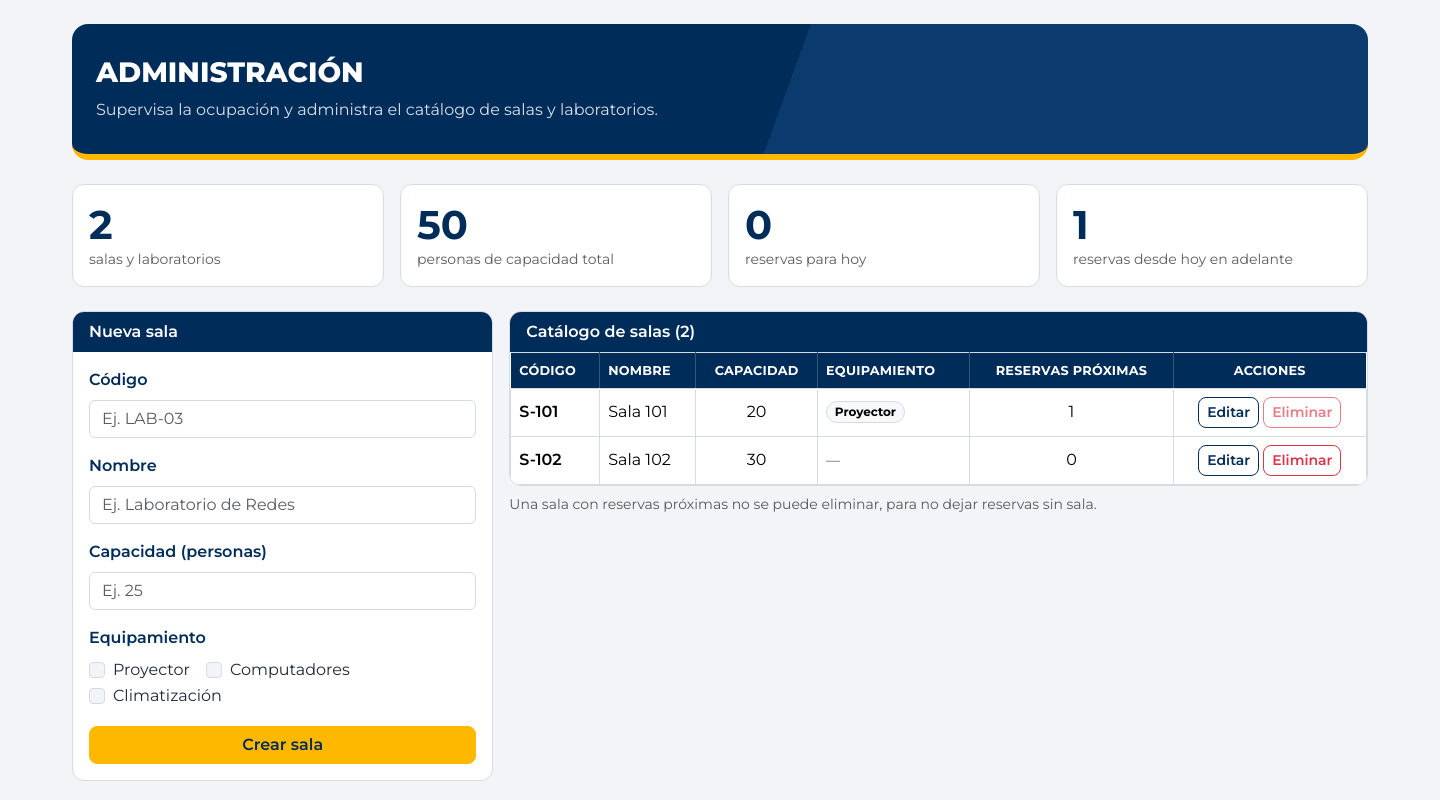
it: Página Administración › crea una sala nueva y la muestra en la tabla
The width and height of the screenshot is (1440, 800).
Type "LAB-03" into the field labelled "Código" at [283, 419], box [89,400,476,438]
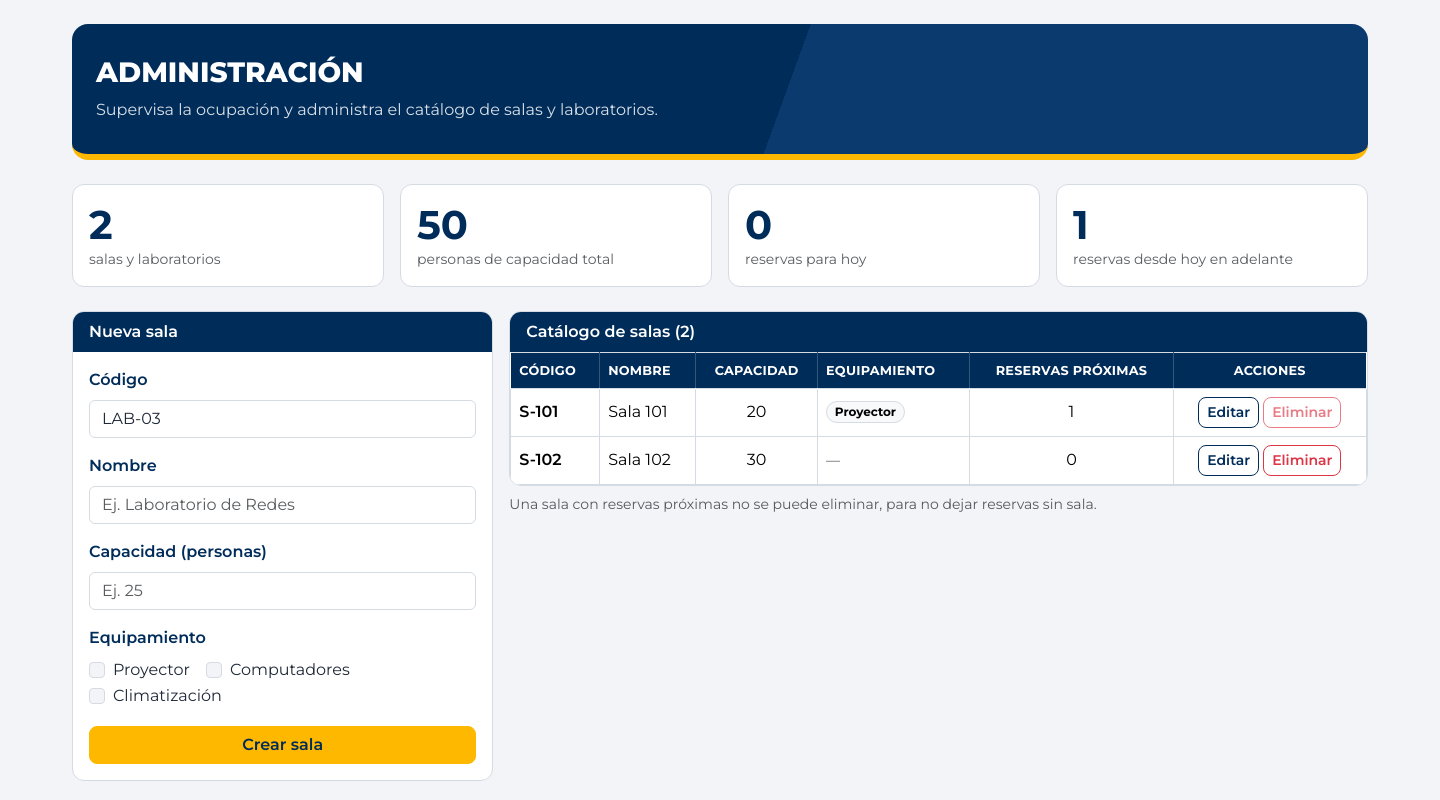
Type "Laboratorio de Redes" into the field labelled "Nombre" at [283, 505], box [89,486,476,524]
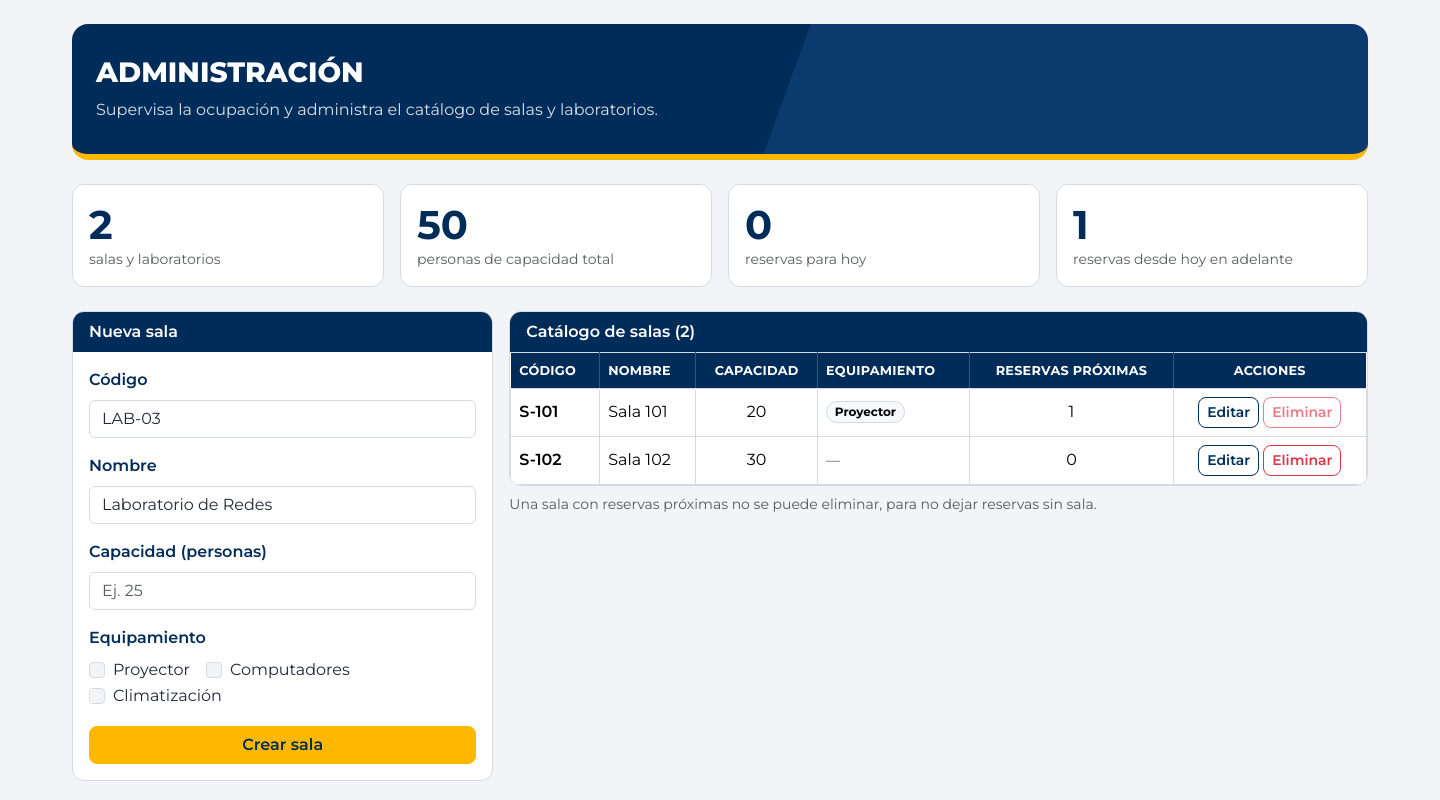
Type "22" into the number field labelled "Capacidad (personas)" at [283, 591], box [89,572,476,610]
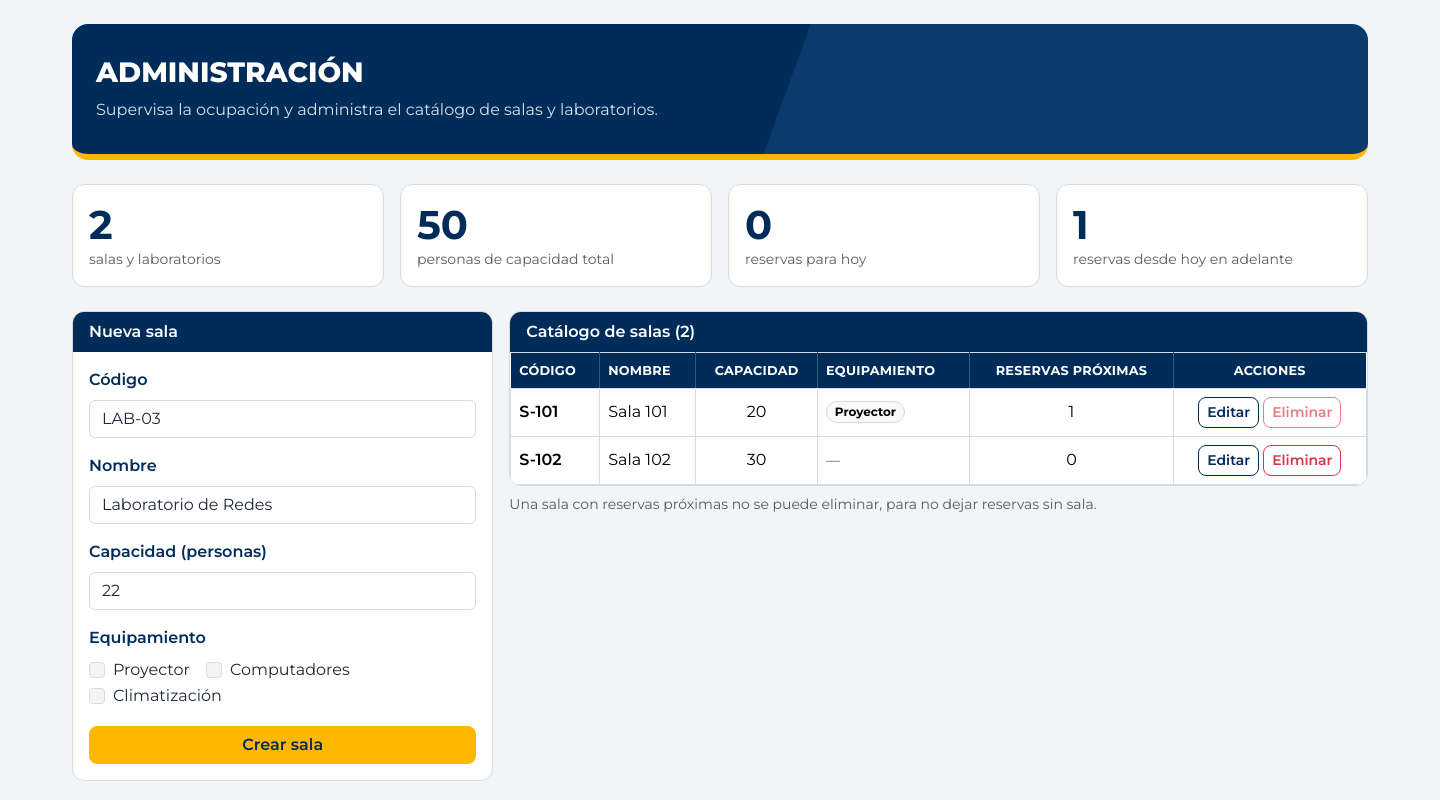
Click the button "Crear sala" at [283, 745], box [89,726,476,764]
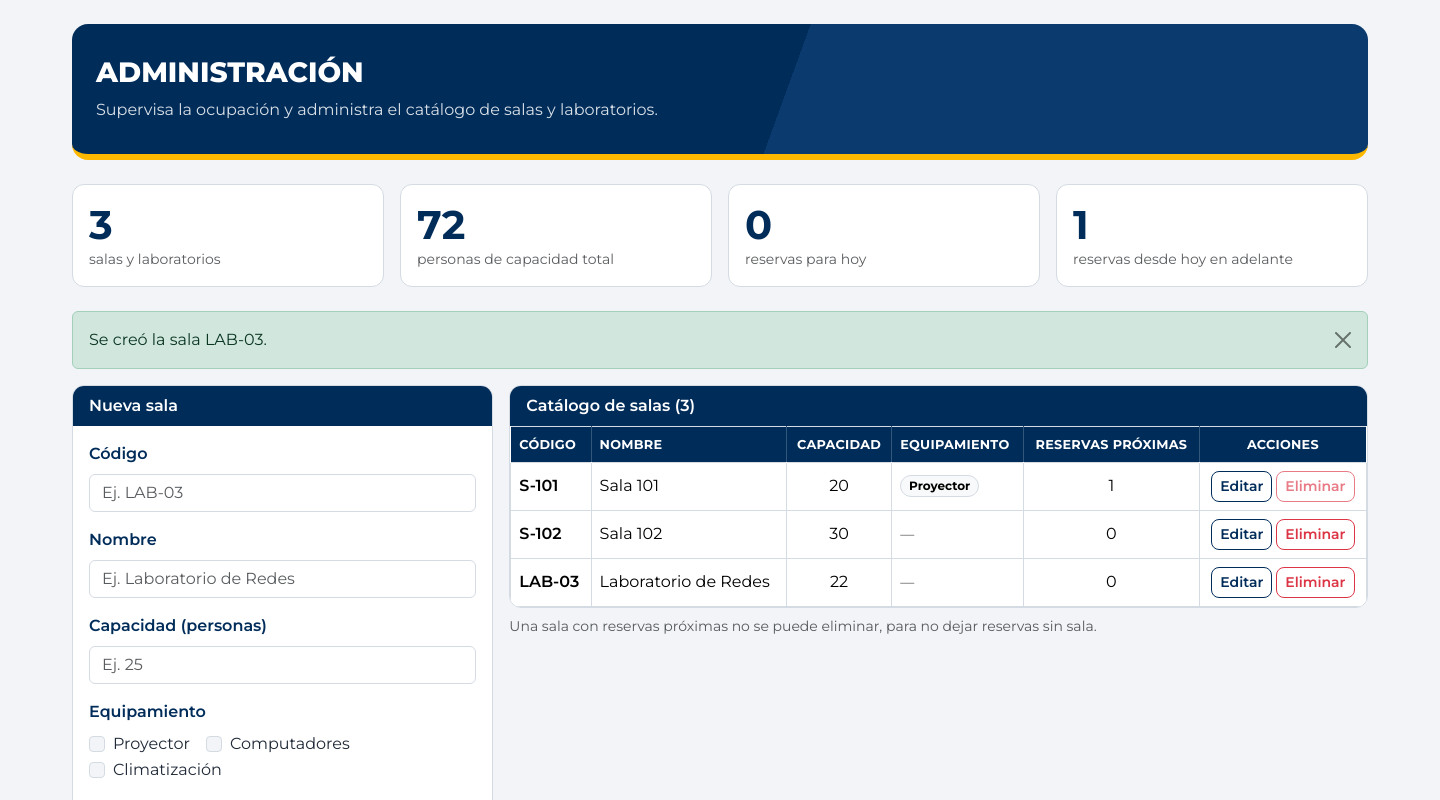
Expected: the text "Se creó la sala LAB-03." is shown, [72,311,1368,369]
Expected: the text "Laboratorio de Redes" is shown, [591,558,786,606]
